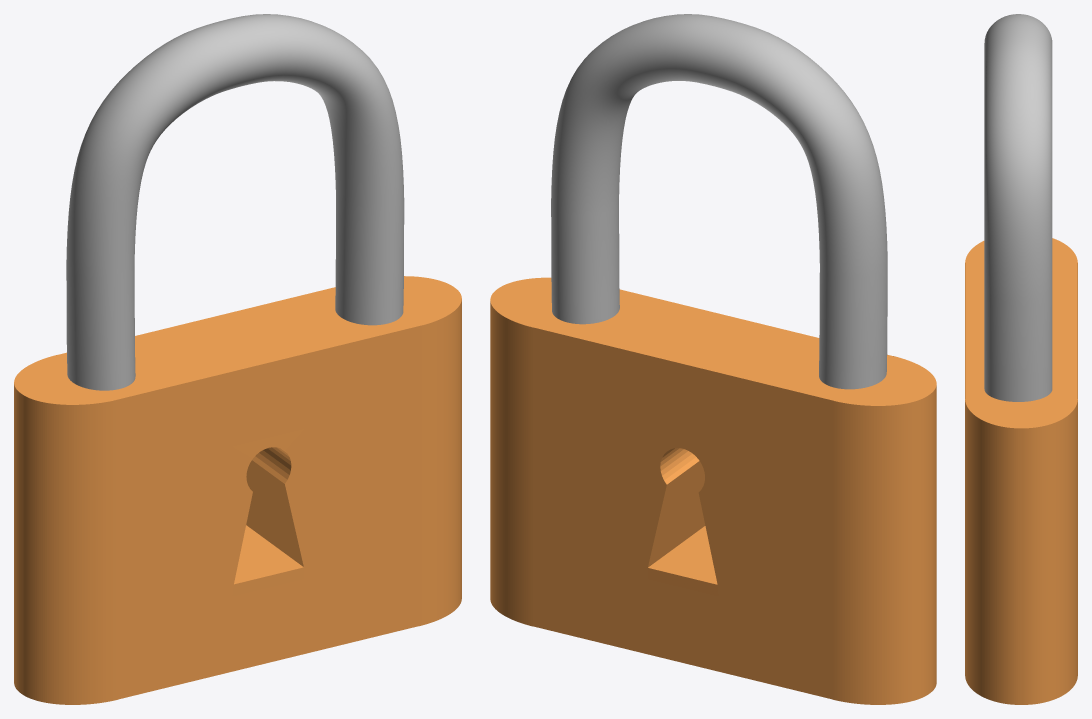
File: padlock.gltf
The picture shows the model from 3 angles, left to right: view 1: azimuth 30°, elevation 25°; view 2: azimuth 150°, elevation 25°; view 3: azimuth 270°, elevation 25°; orthographic projection. The views are drawn at different scales.
Visible parts, largest first — view 1: Corpus, Holder; view 2: Corpus, Holder; view 3: Corpus, Holder.
Part boxes in pixels (bbox=[...]): Corpus: bbox=[14, 276, 461, 704]; Holder: bbox=[66, 14, 404, 390]; Corpus: bbox=[490, 277, 936, 704]; Holder: bbox=[551, 14, 887, 389]; Corpus: bbox=[965, 238, 1077, 704]; Holder: bbox=[984, 14, 1052, 401].
Size of the model in its own units: 8.68 by 11.86 by 2.12.
